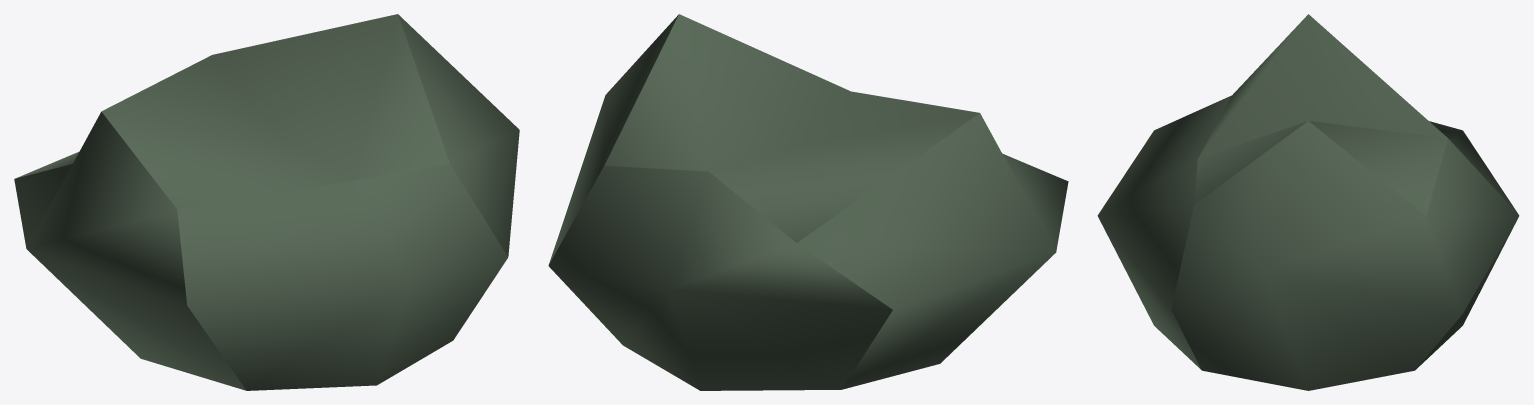
The model's file is Grass_02.fbx.
3 views of the same model, side by side, from view 1: azimuth 30°, elevation 25°; view 2: azimuth 150°, elevation 25°; view 3: azimuth 270°, elevation 25° (orthographic). The views are drawn at different scales.
Parts seen in each view (by area): view 1: Grass_02; view 2: Grass_02; view 3: Grass_02.
Part boxes in pixels (x1,y1,x2,y2): Grass_02: (14,14,519,390); Grass_02: (548,14,1068,390); Grass_02: (1097,14,1519,390).
Size of the model in its own units: 79.33 by 45.6 by 69.28.
Materials: 1 (1 with a texture image).
